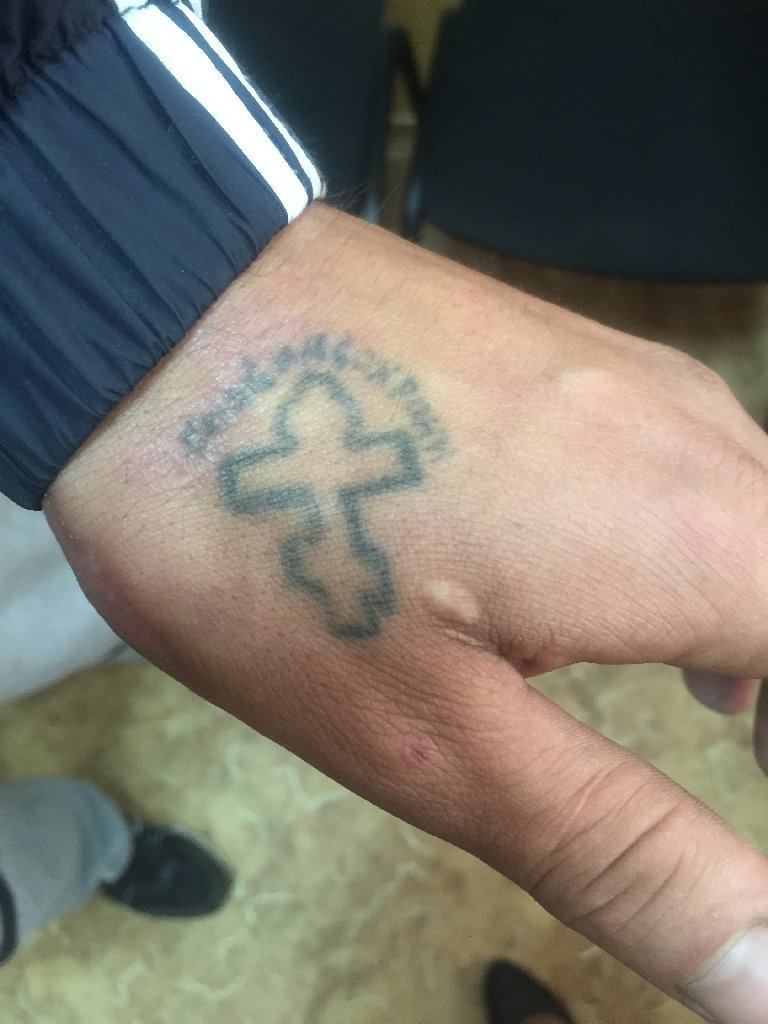tatu9_krest: (210, 364, 428, 647)
